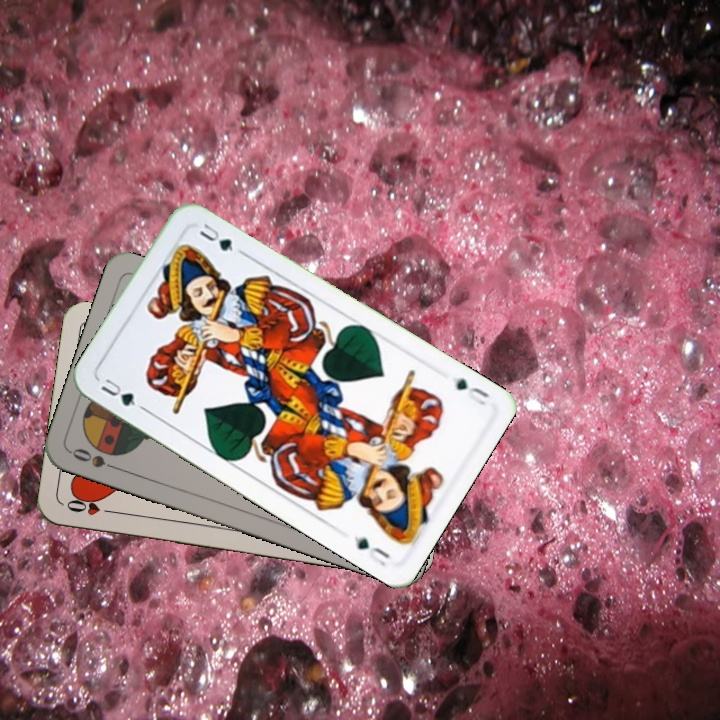GU: (96, 374, 148, 413), (451, 374, 492, 408)
HO: (62, 495, 120, 518)
SO: (68, 444, 124, 474)
